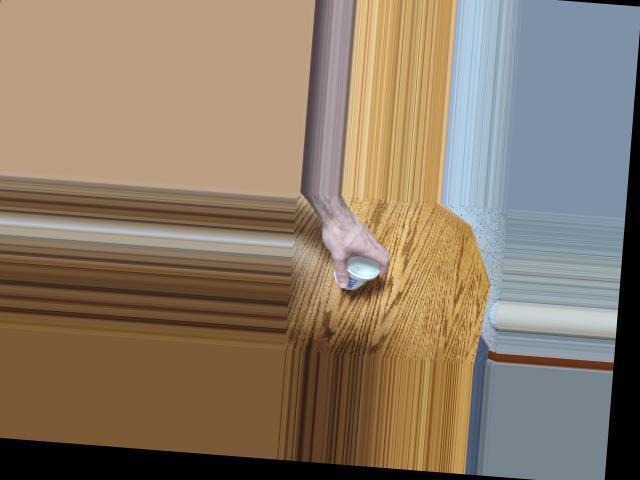cotage: (328, 247, 377, 291)
